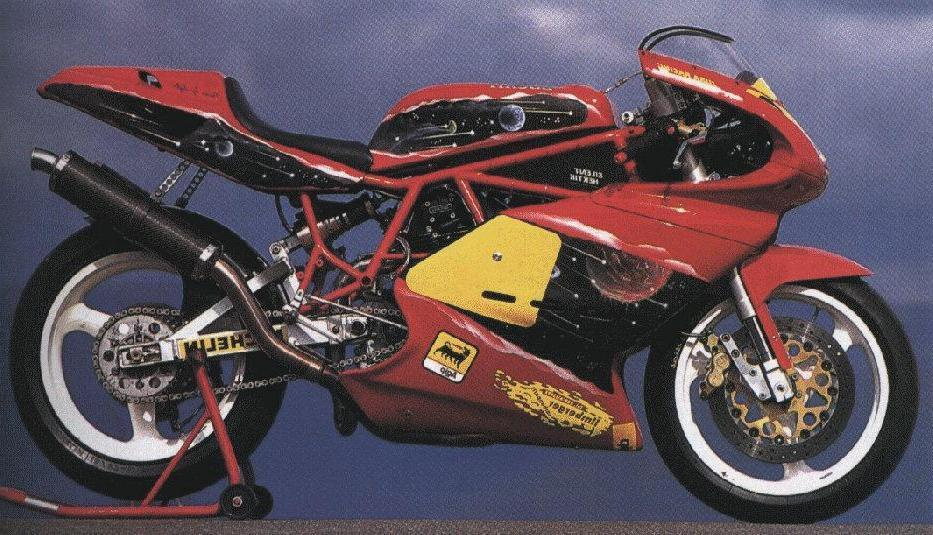motorcycle: (6, 12, 933, 528)
